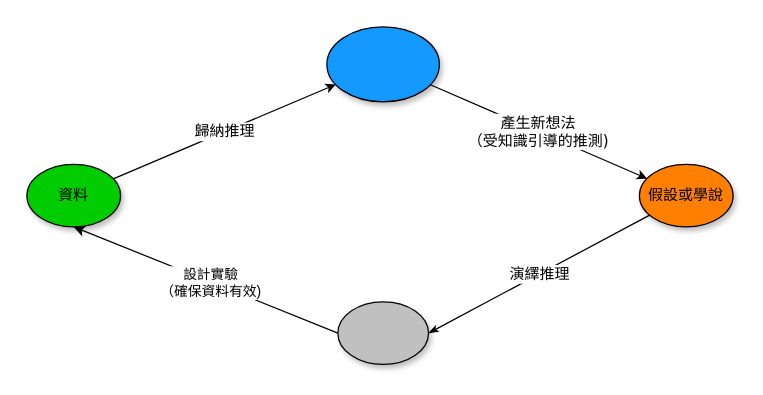
Some shapes in this 763 by 395 pixel diagram are drawn without their labels. The centre of each missing label's shape, as x and y in pixels:
"推測結果" belongs at (384,334).
"推論 （根據假設或學說）" belongs at (384,66).
